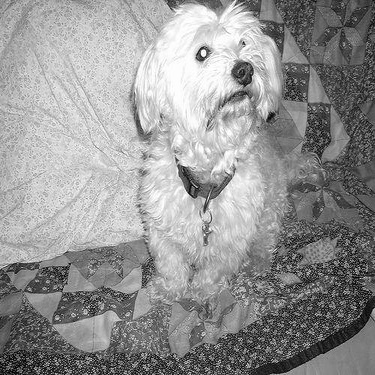dog: (108, 1, 297, 306)
